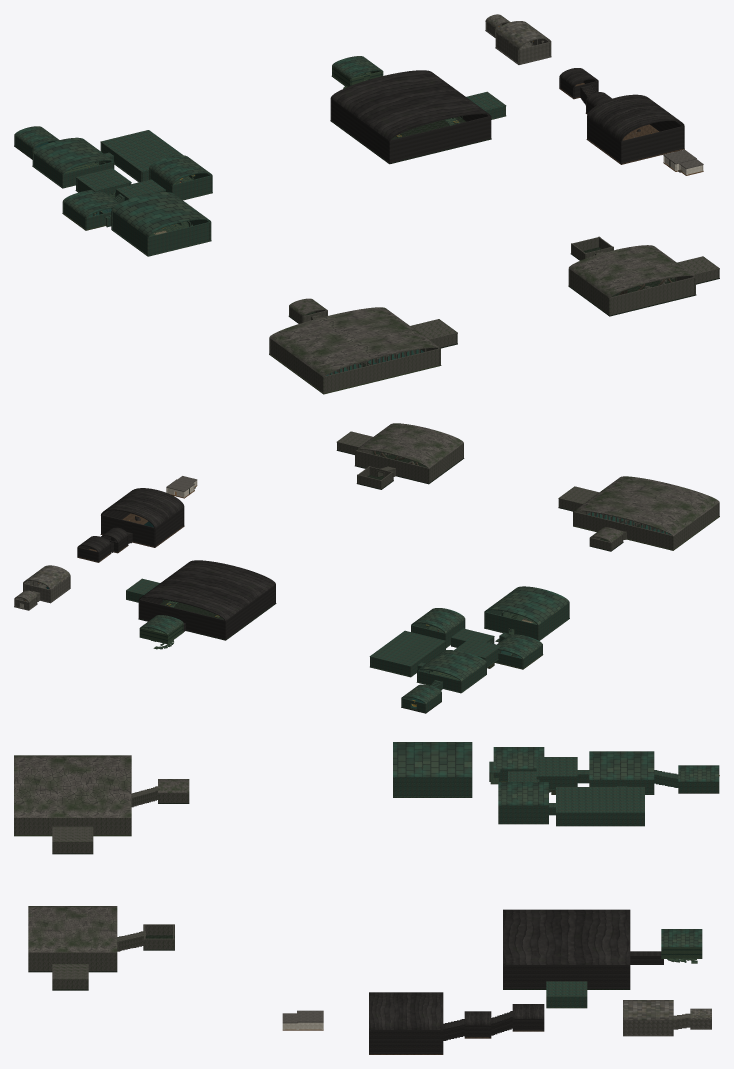
Rendered from world.glb.
3 views of the same model, one above another, from view 1: azimuth 30°, elevation 25°; view 2: azimuth 150°, elevation 25°; view 3: azimuth 270°, elevation 25° (orthographic). The views are drawn at different scales.
Visible parts, largest first — view 1: Roof_ssarathi_insides_rubble_stone, Roof_ssarathi_insides_ssarathi_jade_ashlar, Roof_ssarathi_insides_cliff_rock, Build_ssarathi_insides_rubble_stone, Build_ssarathi_insides_cliff_rock, Build_ssarathi_insides_ssarathi_jade_ashlar, Walk_ssarathi_moss_stone, Build_ssarathi_insides_ashlar, Roof_ssarathi_insides_ashlar, Walk_ssarathi_jade_paving; view 2: Roof_ssarathi_insides_rubble_stone, Roof_ssarathi_insides_ssarathi_jade_ashlar, Roof_ssarathi_insides_cliff_rock, Build_ssarathi_insides_rubble_stone, Build_ssarathi_insides_ssarathi_jade_ashlar, Build_ssarathi_insides_cliff_rock, Walk_ssarathi_moss_stone, Build_ssarathi_insides_ashlar, Roof_ssarathi_insides_ashlar, Walk_ssarathi_jade_paving, Build_ssarathi_insides_ssarathi_jade_scale; view 3: Roof_ssarathi_insides_rubble_stone, Roof_ssarathi_insides_ssarathi_jade_ashlar, Roof_ssarathi_insides_cliff_rock, Build_ssarathi_insides_ssarathi_jade_ashlar, Build_ssarathi_insides_cliff_rock, Build_ssarathi_insides_rubble_stone, Roof_ssarathi_insides_ashlar, Build_ssarathi_insides_ashlar, Walk_ssarathi_moss_stone, Walk_ssarathi_jade_paving, Roof_ssarathi_insides_timber_grey.
Part boxes in pixels (x1=…): Roof_ssarathi_insides_rubble_stone: x1=269, y1=245, x2=719, y2=377; Roof_ssarathi_insides_ssarathi_jade_ashlar: x1=14, y1=56, x2=506, y2=237; Roof_ssarathi_insides_cliff_rock: x1=331, y1=68, x2=684, y2=141; Build_ssarathi_insides_rubble_stone: x1=92, y1=160, x2=719, y2=393; Build_ssarathi_insides_cliff_rock: x1=330, y1=77, x2=684, y2=163; Build_ssarathi_insides_ssarathi_jade_ashlar: x1=14, y1=106, x2=505, y2=255; Walk_ssarathi_moss_stone: x1=14, y1=116, x2=719, y2=366; Build_ssarathi_insides_ashlar: x1=179, y1=22, x2=551, y2=182; Roof_ssarathi_insides_ashlar: x1=485, y1=14, x2=551, y2=50; Walk_ssarathi_jade_paving: x1=32, y1=115, x2=506, y2=256; Roof_ssarathi_insides_rubble_stone: x1=336, y1=423, x2=719, y2=542; Roof_ssarathi_insides_ssarathi_jade_ashlar: x1=126, y1=578, x2=569, y2=704; Roof_ssarathi_insides_cliff_rock: x1=77, y1=488, x2=275, y2=624; Build_ssarathi_insides_rubble_stone: x1=189, y1=442, x2=719, y2=656; Build_ssarathi_insides_ssarathi_jade_ashlar: x1=126, y1=591, x2=569, y2=712; Build_ssarathi_insides_cliff_rock: x1=77, y1=507, x2=275, y2=639; Walk_ssarathi_moss_stone: x1=138, y1=450, x2=641, y2=713; Build_ssarathi_insides_ashlar: x1=14, y1=461, x2=438, y2=631; Roof_ssarathi_insides_ashlar: x1=14, y1=565, x2=70, y2=602; Walk_ssarathi_jade_paving: x1=126, y1=599, x2=569, y2=693; Build_ssarathi_insides_ssarathi_jade_scale: x1=139, y1=601, x2=459, y2=680; Roof_ssarathi_insides_rubble_stone: x1=14, y1=755, x2=189, y2=979; Roof_ssarathi_insides_ssarathi_jade_ashlar: x1=393, y1=742, x2=719, y2=997; Roof_ssarathi_insides_cliff_rock: x1=369, y1=909, x2=661, y2=1030; Build_ssarathi_insides_ssarathi_jade_ashlar: x1=393, y1=761, x2=719, y2=1007; Build_ssarathi_insides_cliff_rock: x1=369, y1=951, x2=663, y2=1053; Build_ssarathi_insides_rubble_stone: x1=14, y1=786, x2=189, y2=989; Roof_ssarathi_insides_ashlar: x1=623, y1=1000, x2=711, y2=1020; Build_ssarathi_insides_ashlar: x1=623, y1=1013, x2=711, y2=1035; Walk_ssarathi_moss_stone: x1=28, y1=792, x2=719, y2=990; Walk_ssarathi_jade_paving: x1=393, y1=773, x2=654, y2=1008; Roof_ssarathi_insides_timber_grey: x1=282, y1=1010, x2=323, y2=1023.
Bounding box in the file's own units: 281 × 24.4 × 294.
24 materials, 24 textured.
